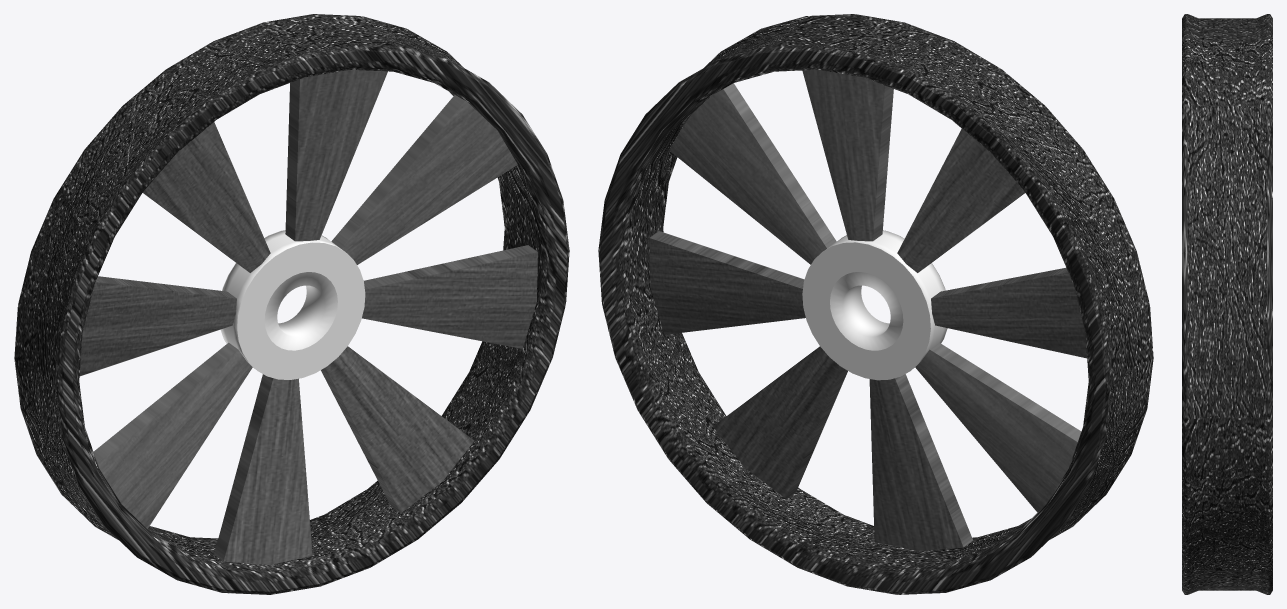
File: cinta1.obj
3 renders of one model, left to right at view 1: azimuth 30°, elevation 25°; view 2: azimuth 150°, elevation 25°; view 3: azimuth 270°, elevation 25°, orthographic.
Visible parts, largest first — view 1: Rim2:g0 group2; view 2: Rim2:g0 group2; view 3: Rim2:g0 group2.
Part boxes in pixels (x1,y1,x2,y2): Rim2:g0 group2: (14, 14, 569, 594); Rim2:g0 group2: (598, 14, 1153, 594); Rim2:g0 group2: (1182, 14, 1272, 594).
Size of the model in its own units: 0.833 by 0.833 by 0.1304.
3 materials, 3 textured.
